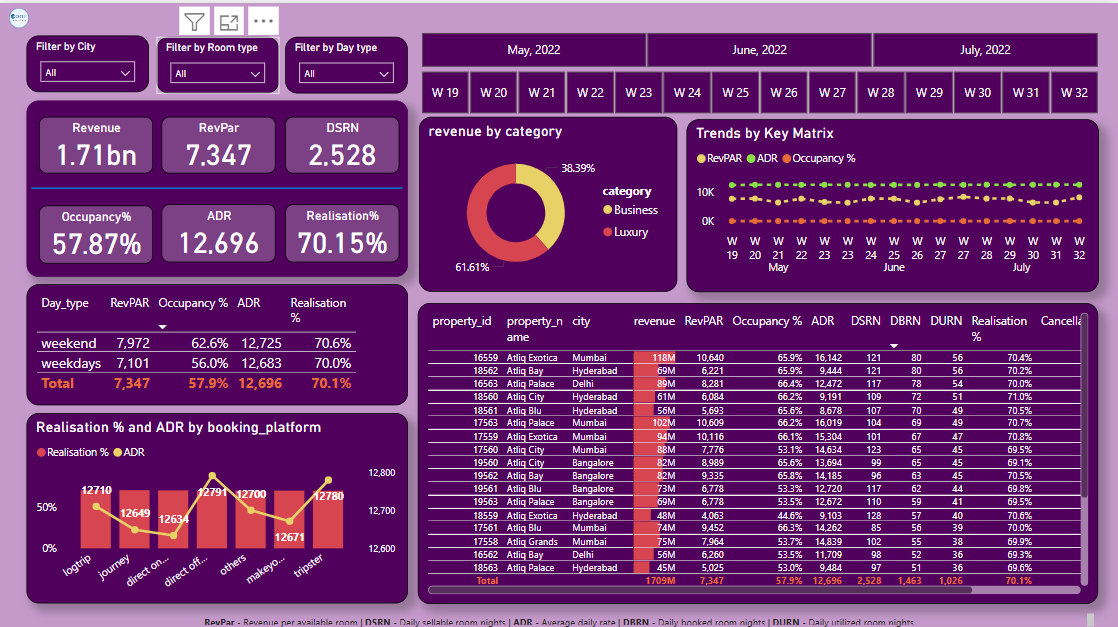

The page's visual inventory and layout, read from the dashboard file:
{"tool":"powerbi","page":{"name":"Dashboard","canvas":[1280,720],"ordinal":0},"visuals":[{"type":"shape","box":[31.2,111.2,436.2,201.2],"z":0},{"type":"lineStackedColumnComboChart","fields":{"Category":["fact_booking.booking_platform"],"Y":["dim_date.Realisation %"],"Y2":["dim_date.ADR"]},"box":[31.2,468.8,436.2,217.5],"z":1000},{"type":"card","title":"Revenue","fields":{"Values":["dim_date.revenue"]},"box":[46.2,130,130,65],"z":2000},{"type":"card","title":"RevPar","fields":{"Values":["dim_date.RevPAR"]},"box":[185,130,130,65],"z":3000},{"type":"card","title":"DSRN","fields":{"Values":["dim_date.DSRN"]},"box":[327.5,130,130,65],"z":4000},{"type":"card","title":"Occupancy%","fields":{"Values":["dim_date.Occupancy %"]},"box":[46.2,231.2,130,66.2],"z":5000},{"type":"card","title":"ADR","fields":{"Values":["dim_date.ADR"]},"box":[185,230,130,66.2],"z":6000},{"type":"card","title":"Realisation%","fields":{"Values":["dim_date.Realisation %"]},"box":[327.5,230,130,66.2],"z":7000},{"type":"slicer","fields":{"Values":["dim_date.week no"]},"box":[457.5,71.2,822.5,61.2],"z":8000},{"type":"slicer","fields":{"Values":["dim_date.mmm yy"]},"box":[457.5,27.5,822.5,52.5],"z":9000},{"type":"donutChart","fields":{"Y":["dim_date.revenue"],"Series":["dim_hotels.category"]},"box":[480,130,295,200],"z":10000},{"type":"tableEx","fields":{"Values":["dim_hotels.property_id","dim_hotels.property_name","dim_hotels.city","dim_date.revenue","dim_date.RevPAR","dim_date.Occupancy %","dim_date.ADR","dim_date.DSRN","dim_date.DBRN","dim_date.DURN","dim_date.Realisation %","dim_date.Cancellation %"]},"box":[478.8,342.5,777.5,343.8],"z":11000},{"type":"slicer","title":"Filter by City","fields":{"Values":["dim_hotels.city"]},"box":[31.2,37.5,140,65],"z":12000},{"type":"slicer","title":"Filter by Room type ","fields":{"Values":["dim_rooms.room_class"]},"box":[180,38.8,140,65],"z":13000},{"type":"tableEx","fields":{"Values":["dim_date.Day_type","dim_date.RevPAR","dim_date.Occupancy %","dim_date.ADR","dim_date.Realisation %"]},"box":[31.2,321.2,436.2,138.8],"z":14000},{"type":"lineChart","title":"Trends by Key Matrix","fields":{"Y":["dim_date.RevPAR","dim_date.ADR","dim_date.Occupancy %"],"Category":["dim_date.mmm yy.Variation.Date Hierarchy.Month","dim_date.week no"]},"box":[785,132.5,471.2,197.5],"z":15000},{"type":"textbox","box":[31.3,692.5,1225.4,26.9],"z":16000},{"type":"slicer","title":"Filter by Day type","fields":{"Values":["dim_date.Day_type"]},"box":[327.5,38.8,140,65],"z":17000},{"type":"image","box":[0,0,46.3,34.3],"z":18000}]}

Visuals, with their boxes in screenshot pixels (x1, y1, x2, y2), scaled from the page's 1280x720 canvas onto the 1118x627 screenshot:
shape: (27,97,408,272)
lineStackedColumnComboChart - fact_booking.booking_platform x dim_date.Realisation %: (27,408,408,598)
"Revenue" card: (40,113,154,170)
"RevPar" card: (162,113,275,170)
"DSRN" card: (286,113,400,170)
"Occupancy%" card: (40,201,154,259)
"ADR" card: (162,200,275,258)
"Realisation%" card: (286,200,400,258)
slicer - dim_date.week no: (400,62,1117,115)
slicer - dim_date.mmm yy: (400,24,1117,70)
donutChart - dim_date.revenue x dim_hotels.category: (419,113,677,287)
tableEx - dim_hotels.property_id x dim_hotels.property_name: (418,298,1097,598)
"Filter by City" slicer: (27,33,150,89)
"Filter by Room type " slicer: (157,34,280,90)
tableEx - dim_date.Day_type x dim_date.RevPAR: (27,280,408,401)
"Trends by Key Matrix" lineChart: (686,115,1097,287)
textbox: (27,603,1098,626)
"Filter by Day type" slicer: (286,34,408,90)
image: (0,0,40,30)
